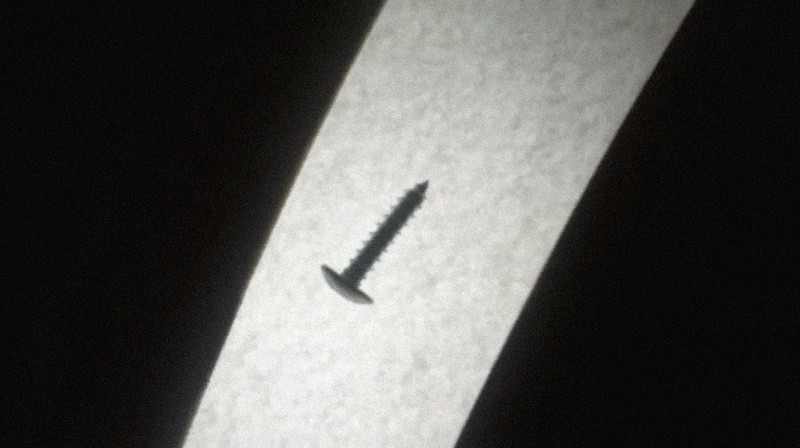S003: (315, 174, 435, 309)
